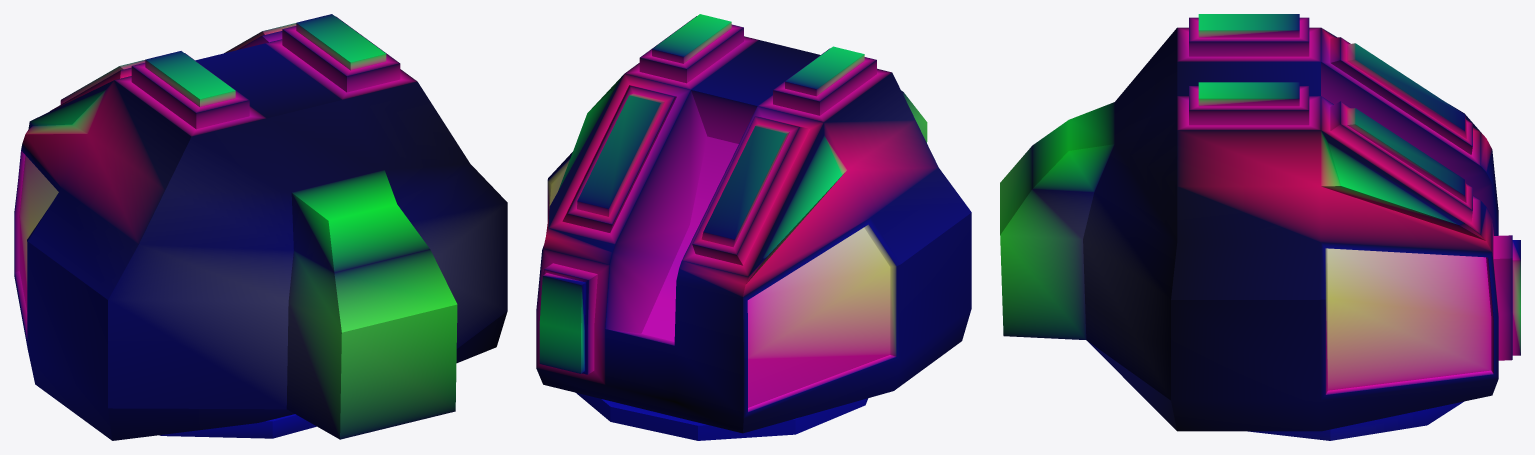
The model's file is wpn_turret_01.fbx.
3 views of the same model, side by side, from view 1: azimuth 30°, elevation 25°; view 2: azimuth 150°, elevation 25°; view 3: azimuth 270°, elevation 25° (orthographic). The views are drawn at different scales.
Parts seen in each view (by area): view 1: wpn_turret_01; view 2: wpn_turret_01; view 3: wpn_turret_01.
Boxes of the visible parts, x1=… form: wpn_turret_01: x1=14, y1=14, x2=507, y2=440; wpn_turret_01: x1=536, y1=14, x2=971, y2=440; wpn_turret_01: x1=1000, y1=14, x2=1520, y2=440.
Bounding box in the file's own units: 502 × 404 × 608.
